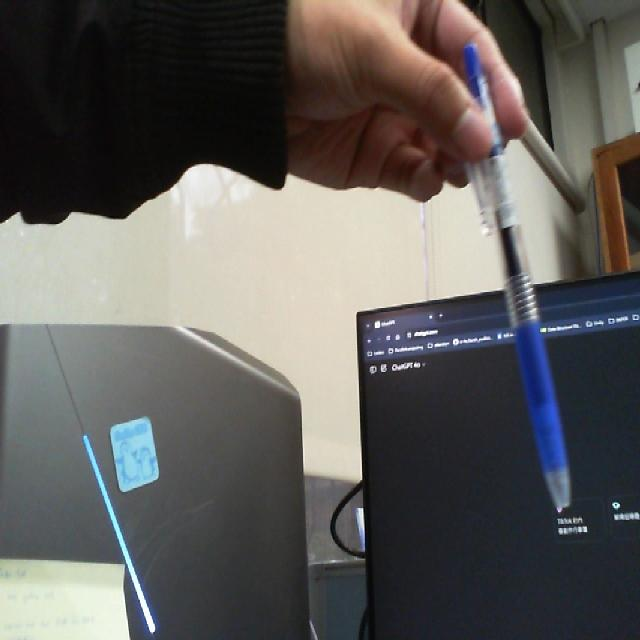Pen: (444, 22, 586, 518)
